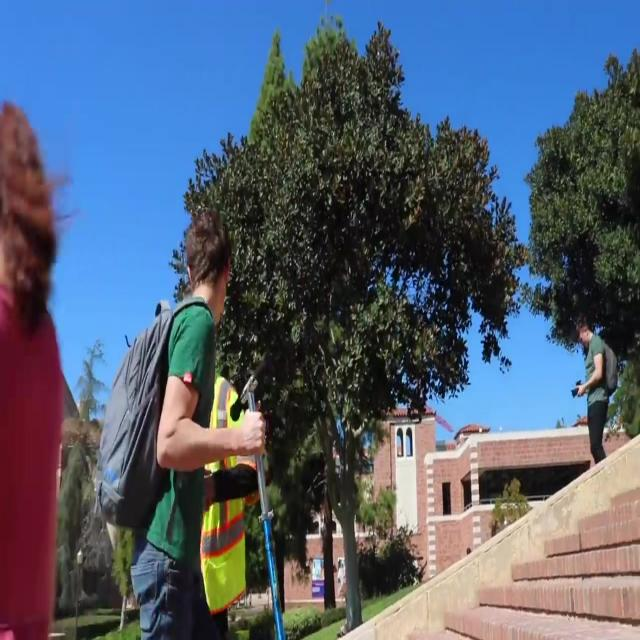Reflective-Jacket: (148, 350, 256, 618)
